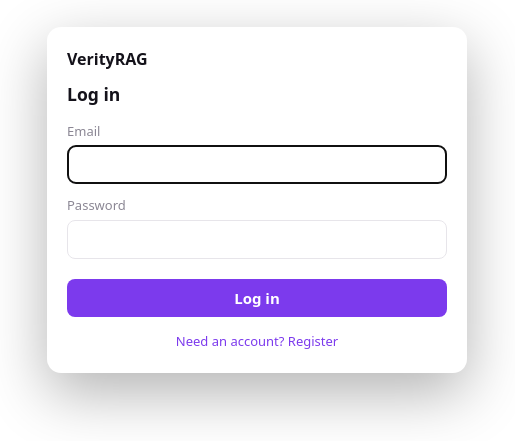
Scenario: AuthScreen › disables the submit button while the request is in flight
The image size is (515, 441).
Step 1. Type "a@example.com" into the field labelled "Email" → (257, 165), box [67,145,447,184]
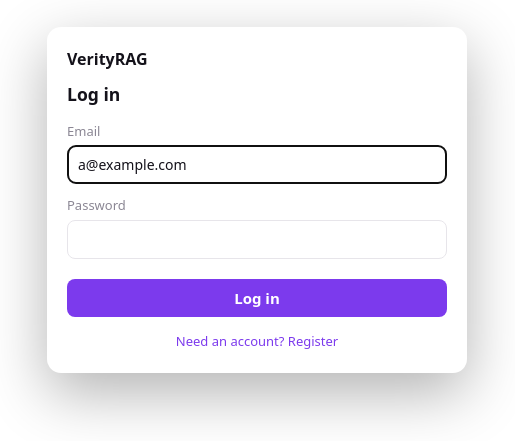
Step 2. Type "correctpassword1" into the password field labelled "Password" → (257, 239), box [67,220,447,259]
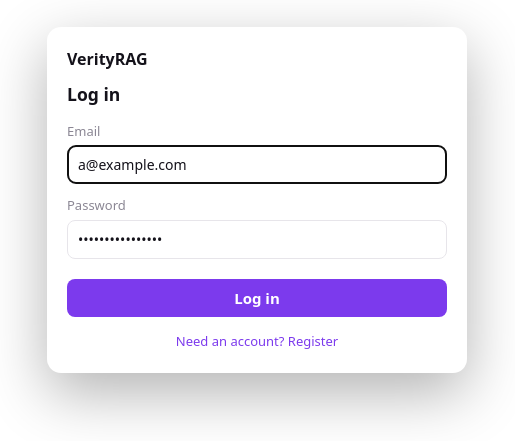
Step 3. Click the button "Log in" → (257, 298), box [67,279,447,317]
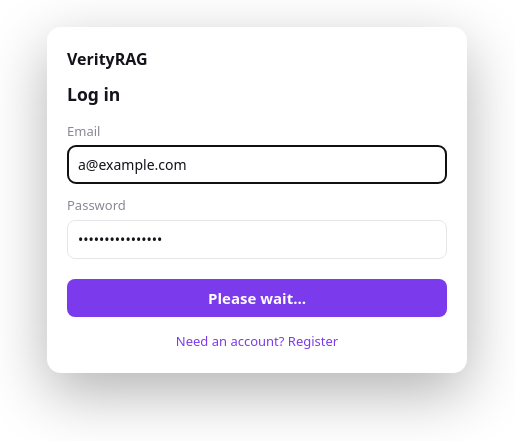
Now the button "Please wait…" is disabled, box [67,279,447,317]
